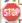Stop sign: (0, 0, 21, 22)
